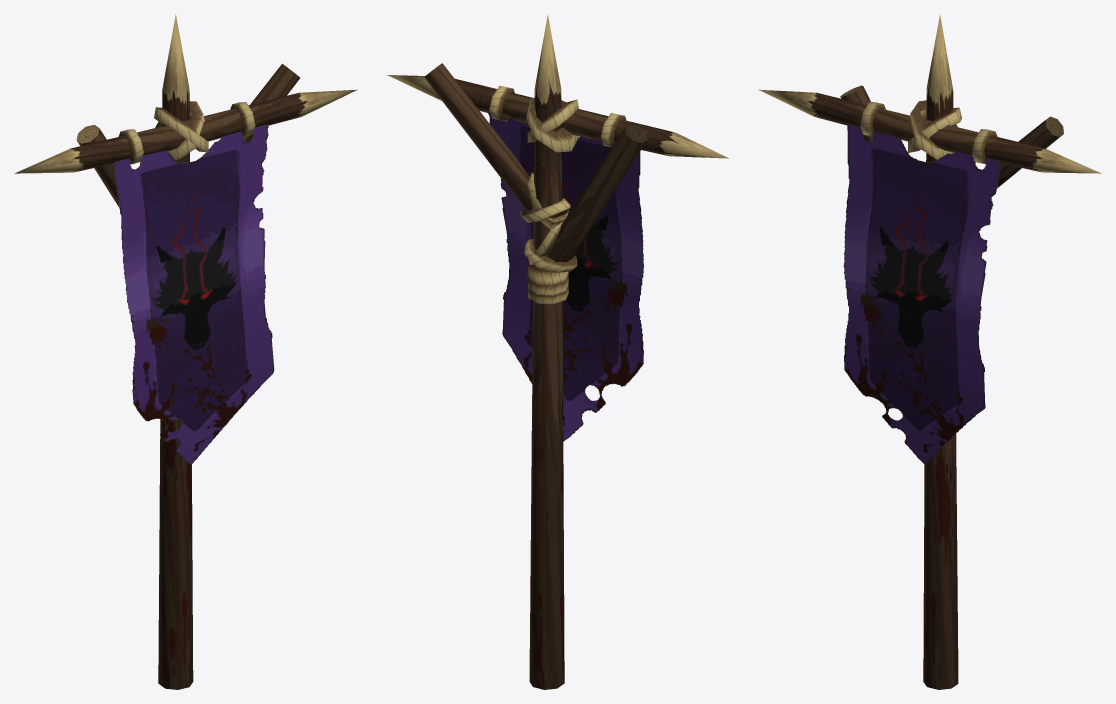
Rendered from berserker_banner_01_2636fa8e.glb.
The picture shows the model from 3 angles, left to right: view 1: azimuth 30°, elevation 25°; view 2: azimuth 150°, elevation 25°; view 3: azimuth 330°, elevation 25°; orthographic projection.
Size of the model in its own units: 3.12 by 5.81 by 0.6037.
1 material, 1 textured.
